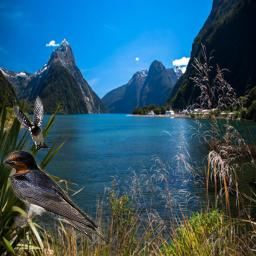Swallow: (3, 150, 115, 247), (13, 96, 50, 150)
